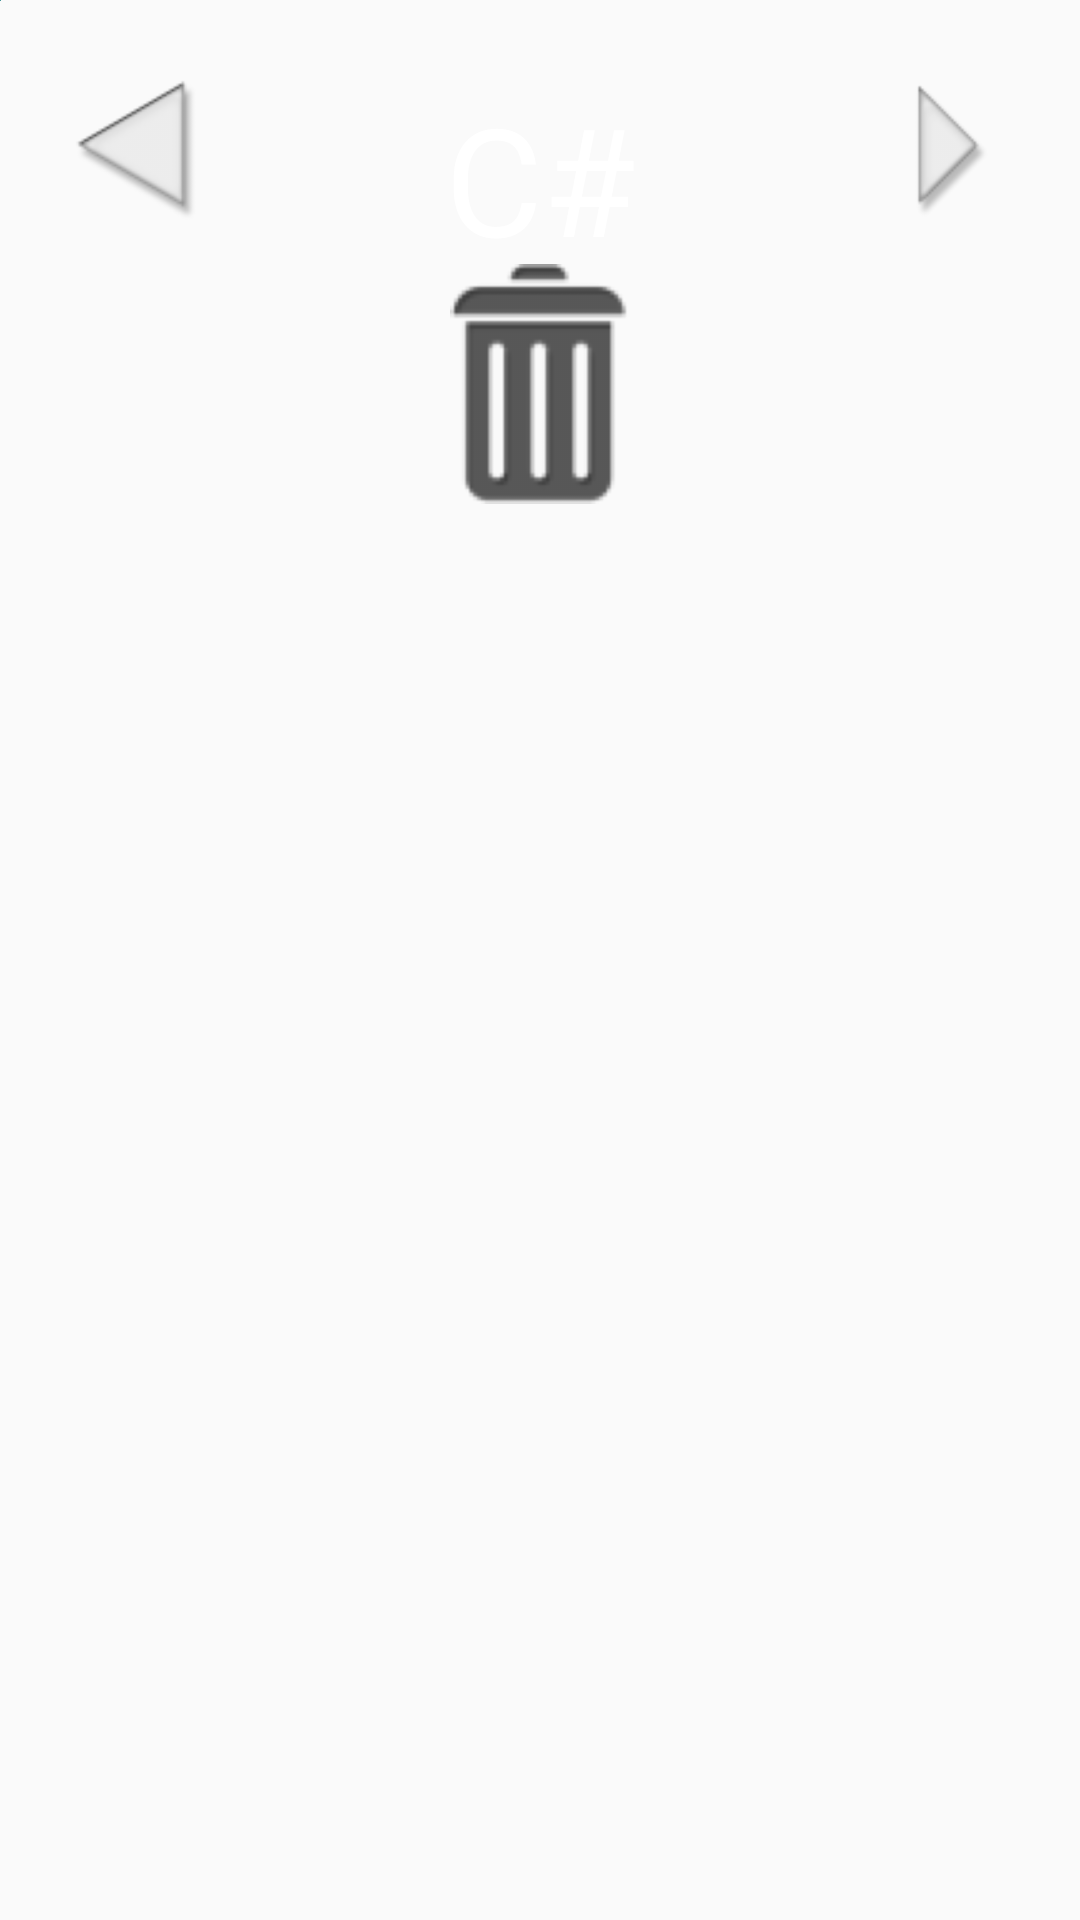

Where to tap for icons on this 1080 × 1920 app screen, as (x=x, y=y):
left arrow: (x=134, y=147)
right arrow: (x=950, y=147)
trash: (x=538, y=384)
